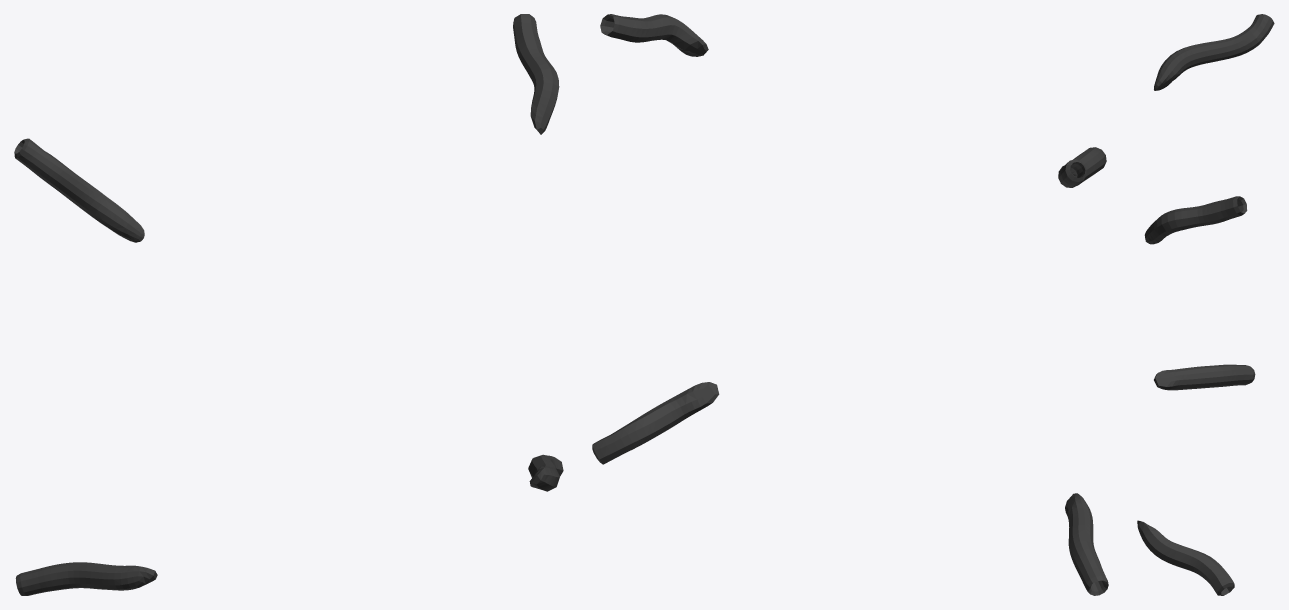
File: VVs.glb
The picture shows the model from 3 angles, left to right: view 1: azimuth 30°, elevation 25°; view 2: azimuth 150°, elevation 25°; view 3: azimuth 270°, elevation 25°; orthographic projection. The views are drawn at different scales.
Parts seen in each view (by area): view 1: VVs; view 2: VVs; view 3: VVs.
Part boxes in pixels (x1,y1,x2,y2): VVs: (14,14,563,595); VVs: (592,14,1108,595); VVs: (1137,14,1274,595).
Bounding box in the file's own units: 1.76 × 1.47 × 0.4654.
Materials: 1 (1 with a texture image).
